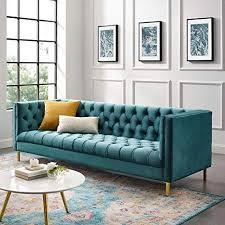sofa: (11, 102, 219, 195)
table: (0, 168, 86, 225)
